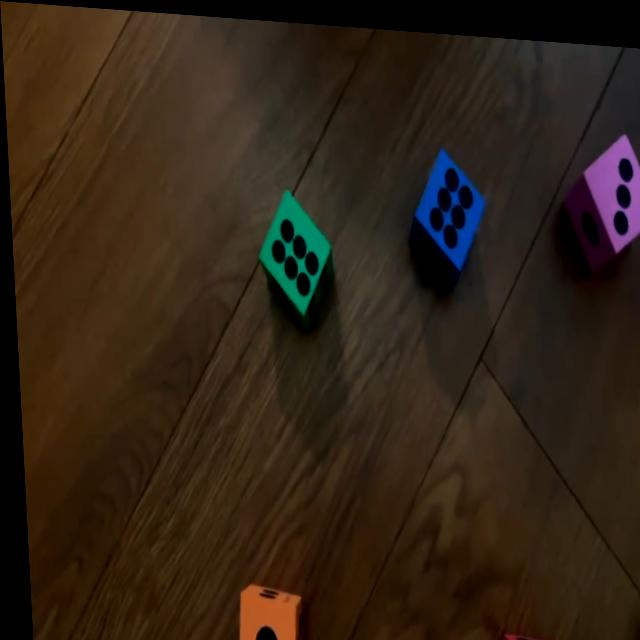blue_block: (404, 139, 487, 284)
red_block: (492, 623, 573, 640)
